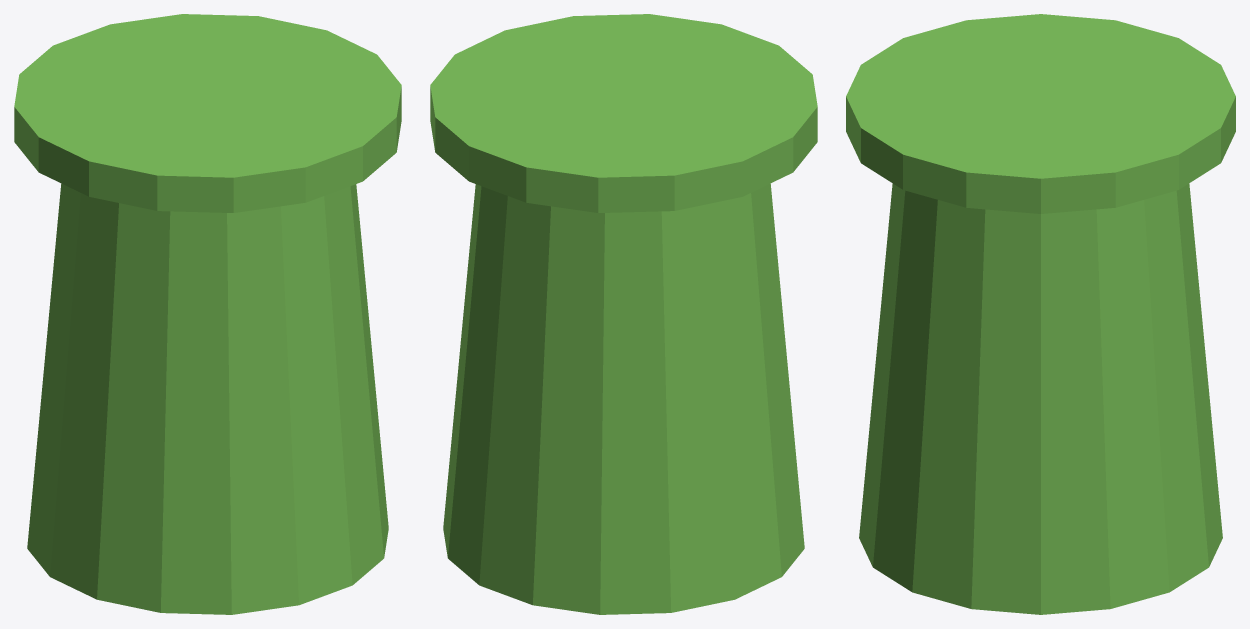
Rendered from bin.glb.
3 renders of one model, left to right at view 1: azimuth 30°, elevation 25°; view 2: azimuth 150°, elevation 25°; view 3: azimuth 270°, elevation 25°, orthographic.
Parts seen in each view (by area): view 1: p_bin; view 2: p_bin; view 3: p_bin.
Boxes of the visible parts, box(x1,y1,x2,y2) form: p_bin: box(14, 14, 401, 614); p_bin: box(430, 14, 817, 614); p_bin: box(846, 14, 1235, 614).
Bounding box in the file's own units: 0.6 × 0.75 × 0.6.
